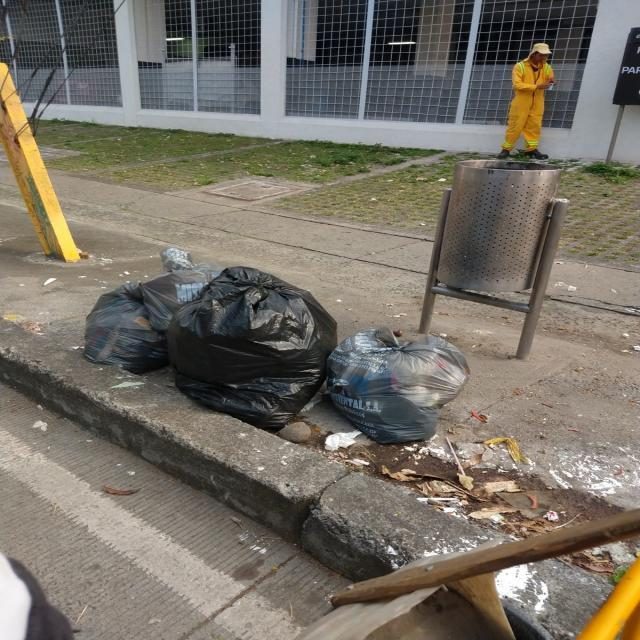high trash: (85, 266, 469, 442)
